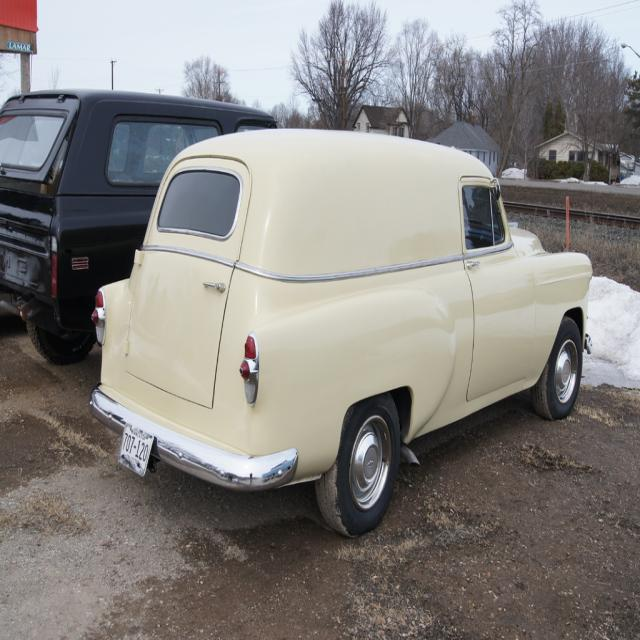car: (66, 127, 574, 511)
